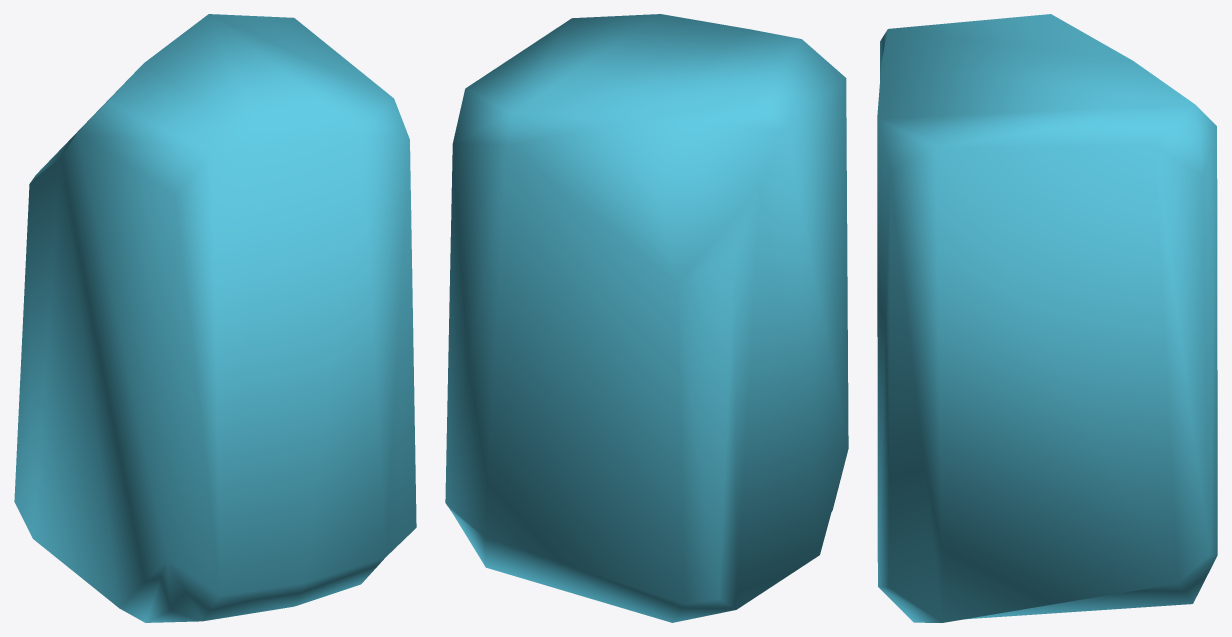
File: stone brick_01.FBX
The picture shows the model from 3 angles, left to right: view 1: azimuth 30°, elevation 25°; view 2: azimuth 150°, elevation 25°; view 3: azimuth 270°, elevation 25°; orthographic projection. The views are drawn at different scales.
Parts seen in each view (by area): view 1: stone brick_01; view 2: stone brick_01; view 3: stone brick_01.
Part boxes in pixels (x1,y1,x2,y2): stone brick_01: [14, 14, 416, 622]; stone brick_01: [445, 14, 848, 622]; stone brick_01: [877, 14, 1217, 622].
Size of the model in its own units: 27.78 by 47.9 by 28.55.
